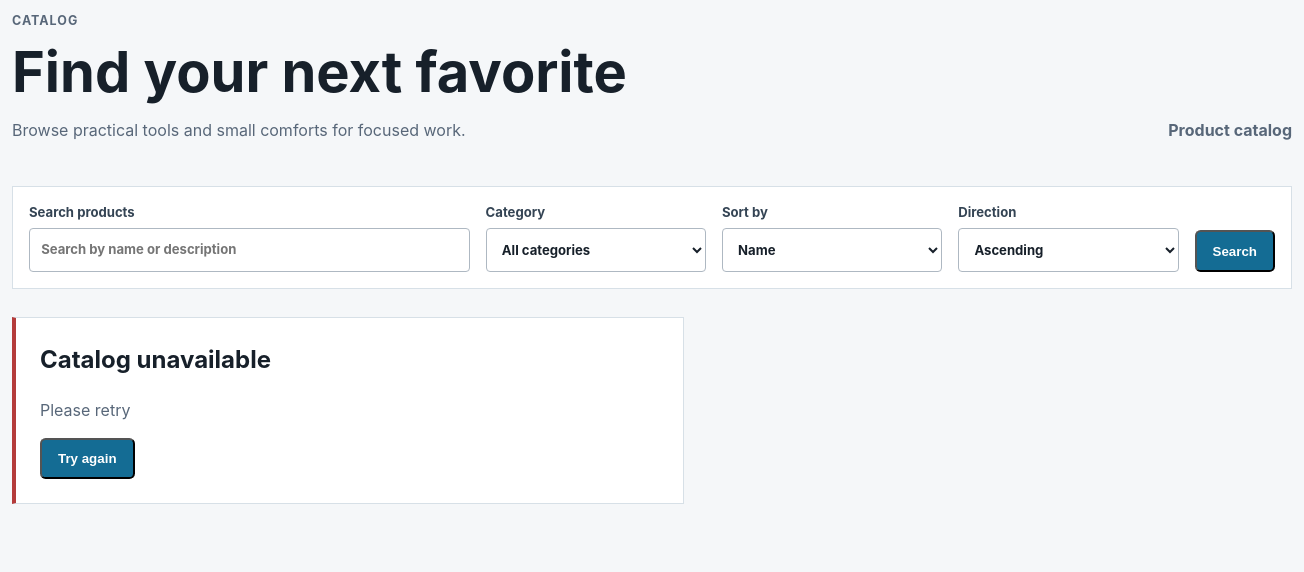
it: product catalog › recovers from a server error with retry
This screenshot has width=1304, height=572.
Expected: the message shows "Please retry", [40,400,130,420]
What coordinates should you click on to do the following:
click the button "Try again"
I would click on:
 (87, 458)
Its box is [40,438,134,479].
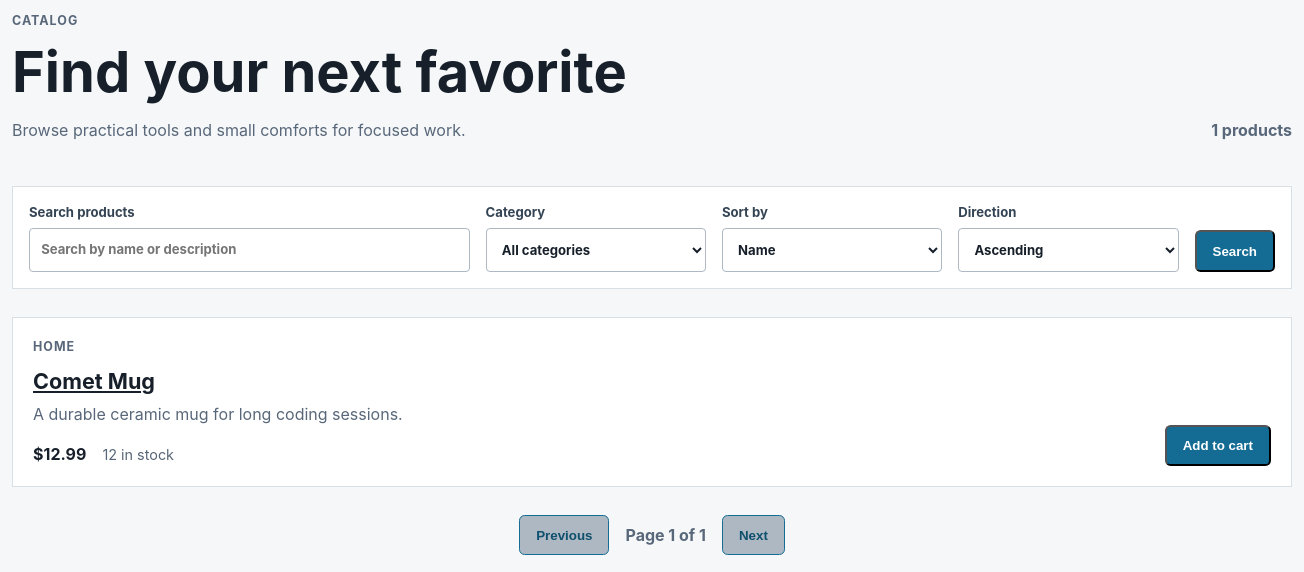
Expected: the heading "Comet Mug" is shown, [33,368,155,394]
